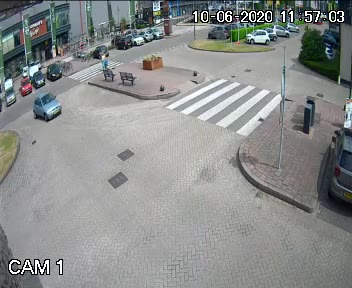car: (31, 93, 68, 120)
